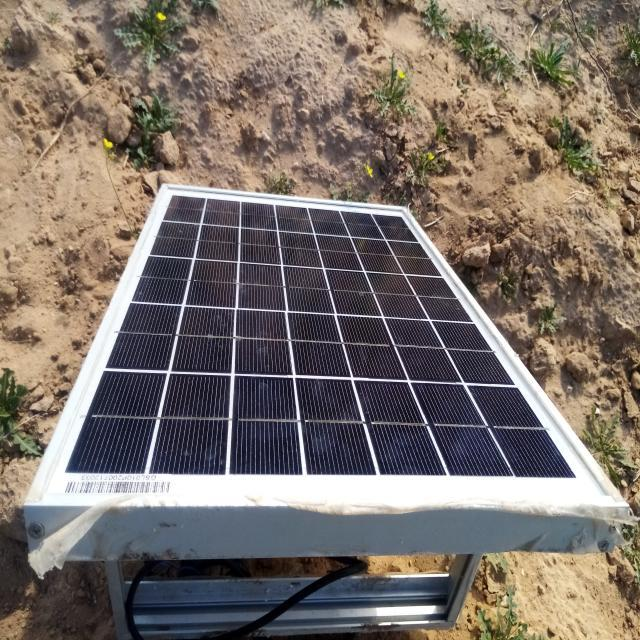no faulty: (37, 189, 625, 511)
